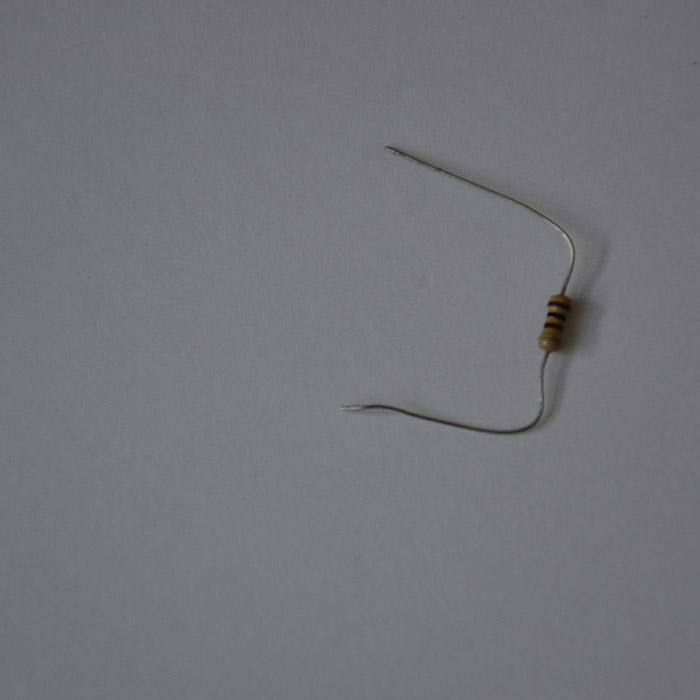resistor: (537, 293, 572, 353)
